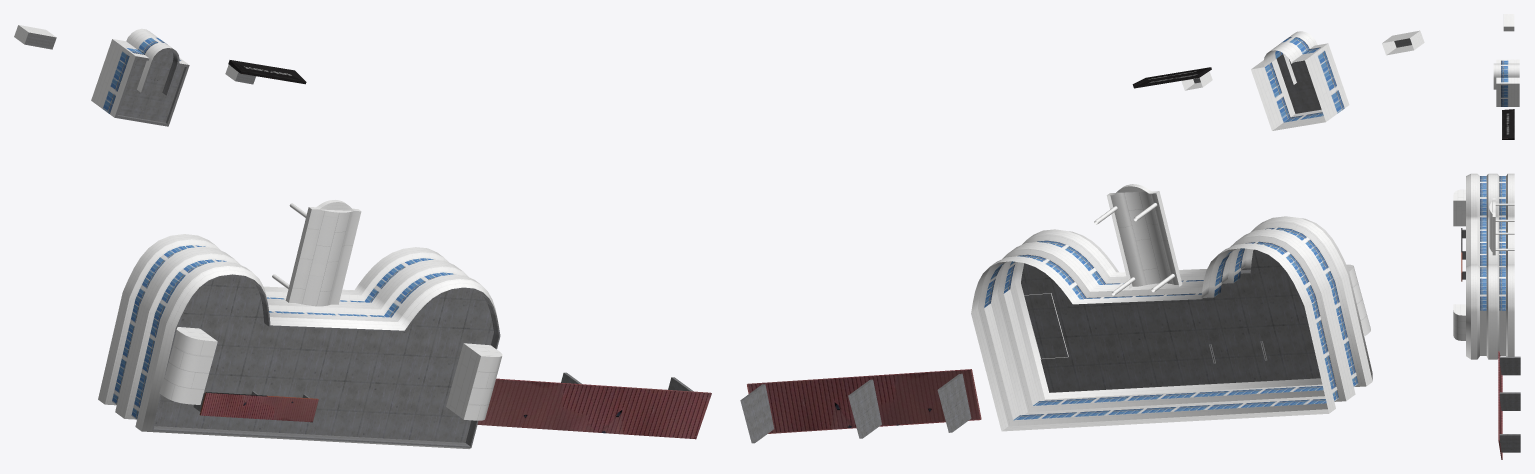
Rendered from building_p5_02.fbx.
3 views of the same model, side by side, from view 1: azimuth 30°, elevation 25°; view 2: azimuth 150°, elevation 25°; view 3: azimuth 270°, elevation 25° (orthographic). The views are drawn at different scales.
Parts seen in each view (by area): view 1: Building_P5_02; view 2: Building_P5_02; view 3: Building_P5_02.
Part boxes in pixels (box(x1,y1,x2,y2)): Building_P5_02: box(14, 25, 711, 448); Building_P5_02: box(740, 30, 1424, 443); Building_P5_02: box(1453, 14, 1520, 459).
Size of the model in its own units: 8910 by 7082 by 1529.
